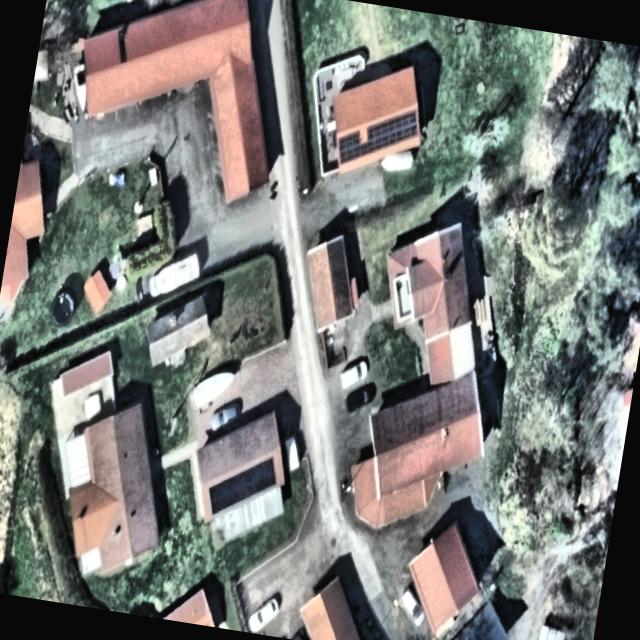roof_pv: (358, 101, 426, 170), (235, 452, 282, 508), (203, 466, 247, 522), (336, 126, 364, 166)
